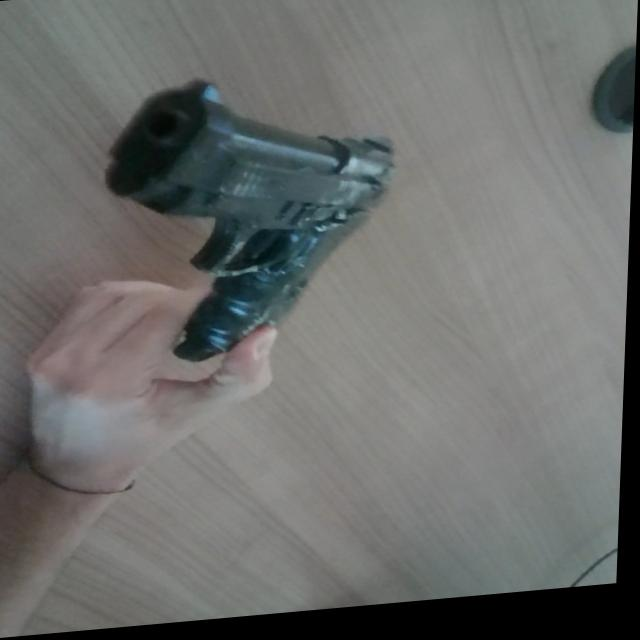handgun: (93, 67, 419, 361)
